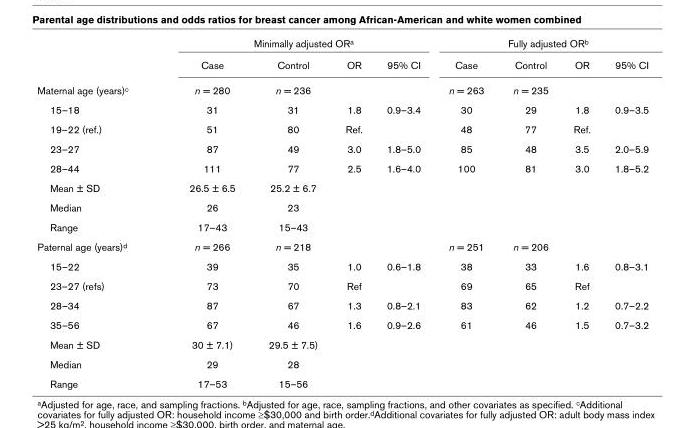table: (36, 36, 648, 389)
table column: (36, 36, 158, 389), (158, 36, 251, 389), (251, 36, 331, 389), (433, 36, 497, 389), (497, 36, 560, 389), (373, 36, 433, 389), (601, 36, 648, 389), (331, 36, 373, 389), (560, 36, 601, 389)
table column header: (36, 36, 648, 77)
table row: (36, 53, 648, 77), (36, 77, 648, 99), (36, 99, 648, 119), (36, 138, 648, 158), (36, 177, 648, 197), (36, 216, 648, 236), (36, 236, 648, 256), (36, 275, 648, 295), (36, 314, 648, 334), (36, 353, 648, 373), (36, 119, 648, 138), (36, 158, 648, 177), (36, 197, 648, 216), (36, 256, 648, 275), (36, 295, 648, 314), (36, 334, 648, 353), (36, 36, 648, 53), (36, 373, 648, 389)
table spanning cell: (158, 36, 433, 53), (433, 36, 648, 53)
